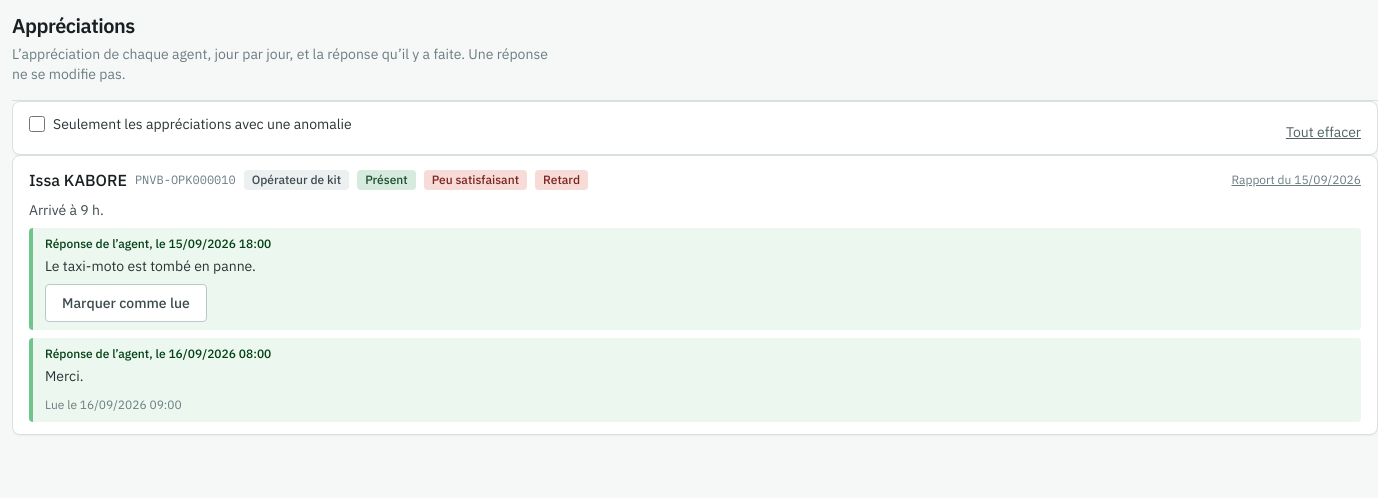
Test: Appréciations › marque la réponse d’un agent comme lue
This screenshot has width=1378, height=498.
Expected: the text "Peu satisfaisant" is shown, [424,170,527,190]
Expected: the text "Retard" is shown, [535,170,588,190]
Click the button "Marquer comme lue" at {"x": 126, "y": 303}, box [45,284,207,322]
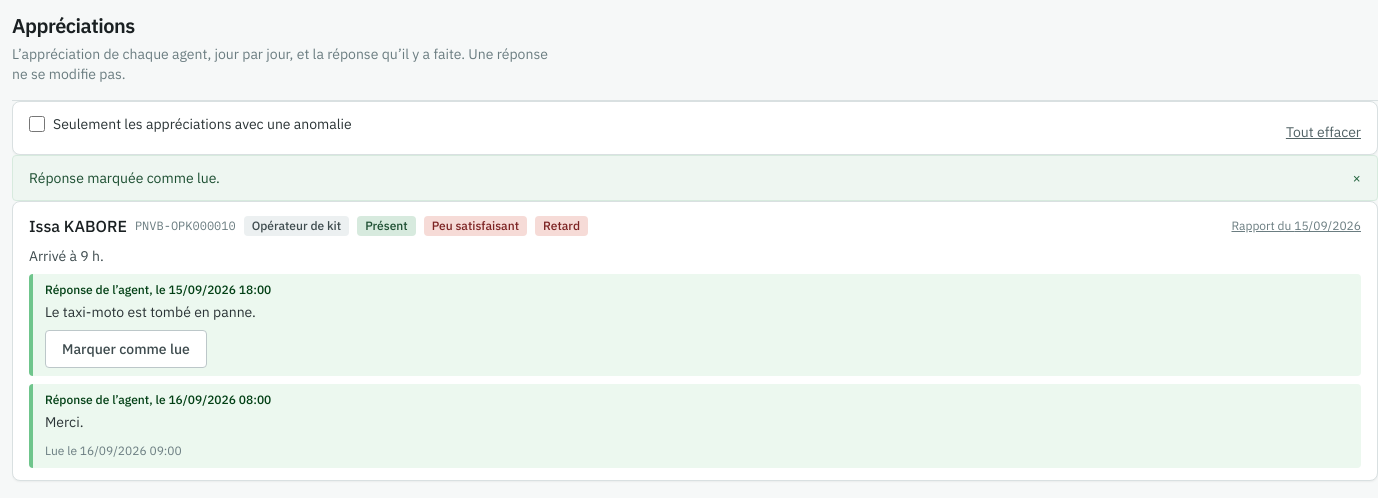
Expected: the text "Réponse marquée comme lue." is shown, [29,168,220,188]
